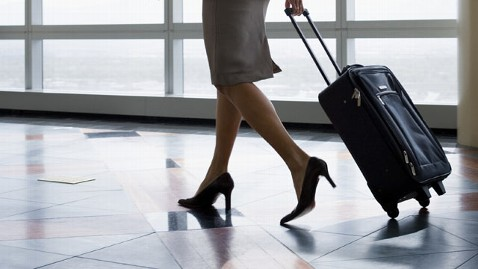luggage: (287, 11, 459, 229)
